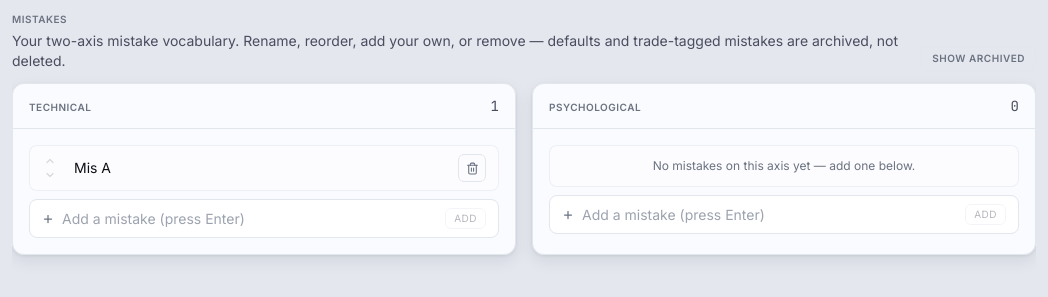
it: VocabularyEditor — the hard-delete branch is no longer silent (Mistakes) › a hard-delete SAYS SO: a permanent-removal note that names the entry
Click the button named "Remove Mis A" at (472, 168), box [458, 154, 486, 182]
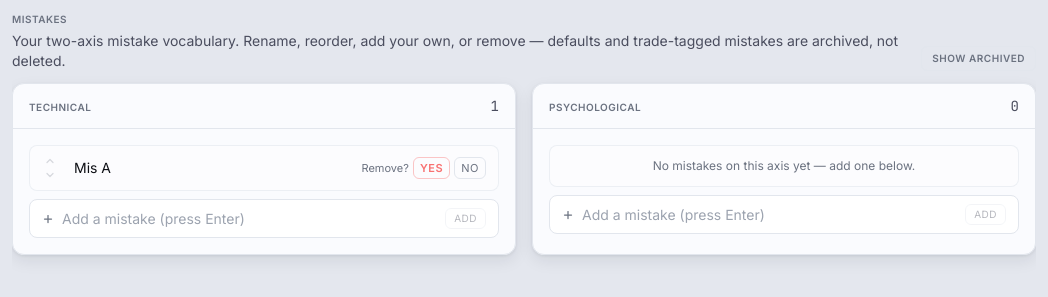
Click the button "Yes" at (432, 168), box [413, 157, 450, 179]
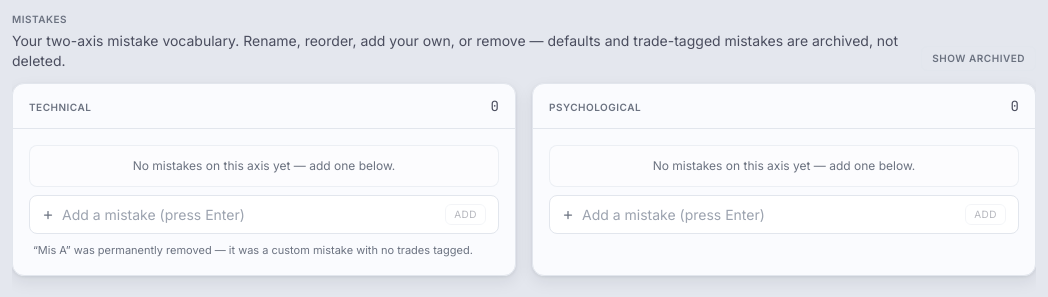
Result: the text "permanently removed" shows "Mis A" at [33, 243, 473, 257]
